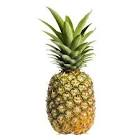Pineapple: (38, 5, 98, 134)
